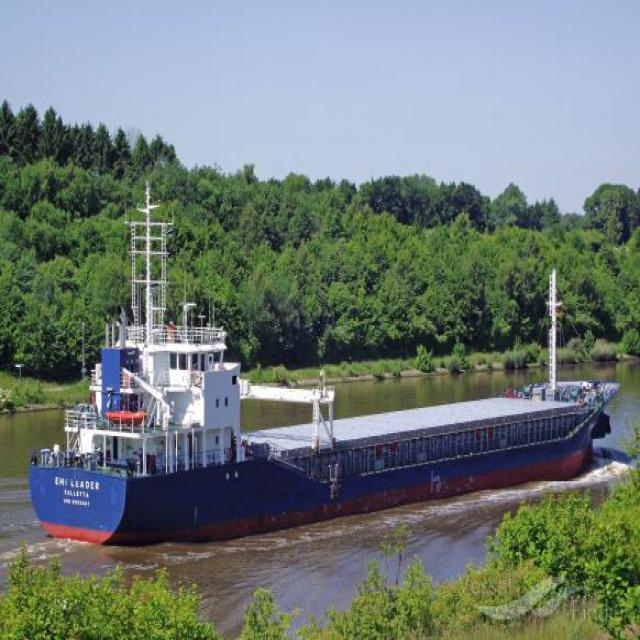OCR: (48, 465, 104, 517)
